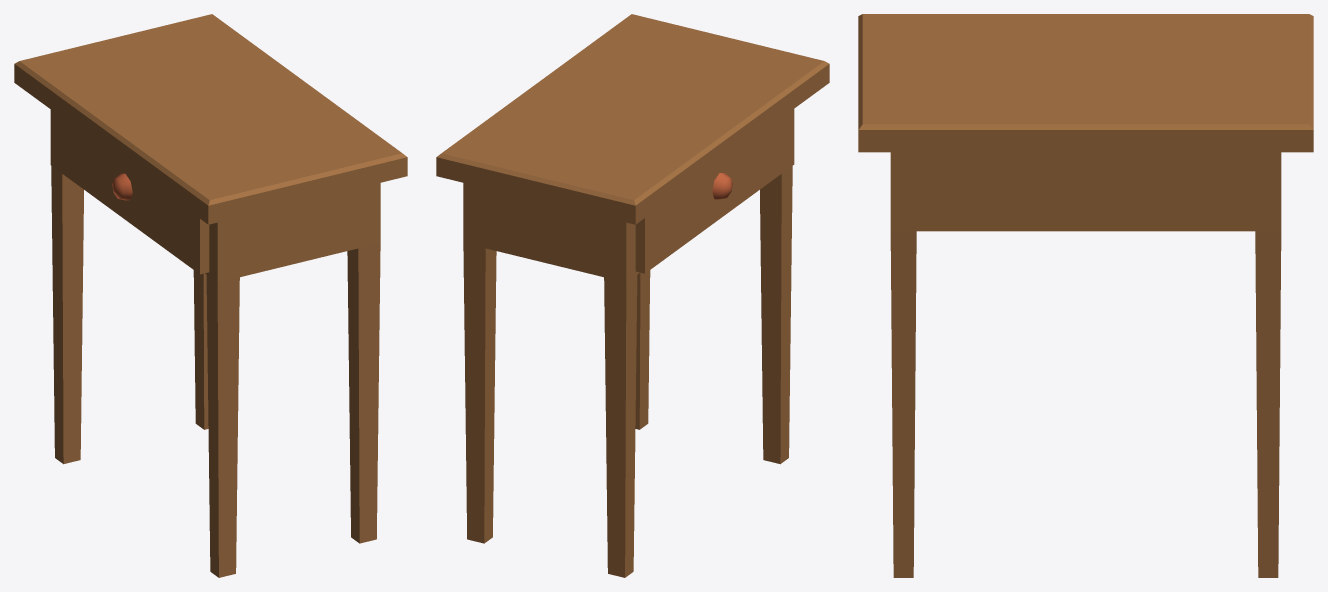
The model's file is SMALL TABLE.FBX.
The picture shows the model from 3 angles, left to right: view 1: azimuth 30°, elevation 25°; view 2: azimuth 150°, elevation 25°; view 3: azimuth 270°, elevation 25°; orthographic projection. The views are drawn at different scales.
Parts seen in each view (by area): view 1: Box001; view 2: Box001; view 3: Box001.
Boxes of the visible parts, x1,y1,x2,y2 form: Box001: (14,14,407,577); Box001: (436,14,829,577); Box001: (858,14,1313,577).
Bounding box in the file's own units: 27.56 × 51.95 × 46.5.
